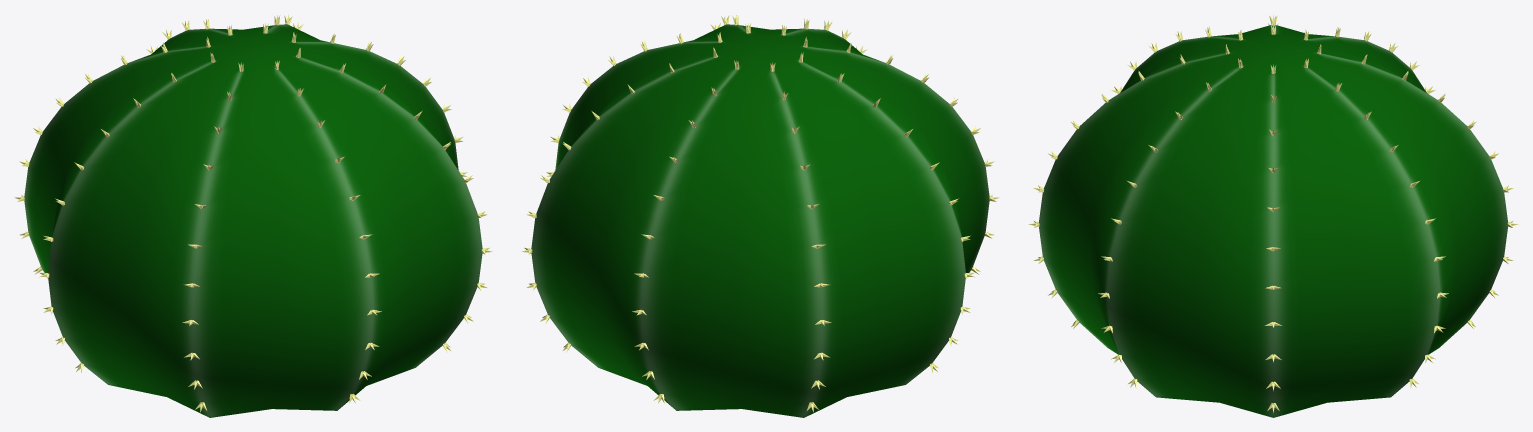
Rendered from soboten_2.fbx.
The picture shows the model from 3 angles, left to right: view 1: azimuth 30°, elevation 25°; view 2: azimuth 150°, elevation 25°; view 3: azimuth 270°, elevation 25°; orthographic projection.
Visible parts, largest first — view 1: pCube21; view 2: pCube21; view 3: pCube21.
Boxes of the visible parts, x1,y1,x2,y2 form: pCube21: (14,14,492,417); pCube21: (521,14,999,417); pCube21: (1028,14,1518,417).
Size of the model in its own units: 4.43 by 3.02 by 4.43.
